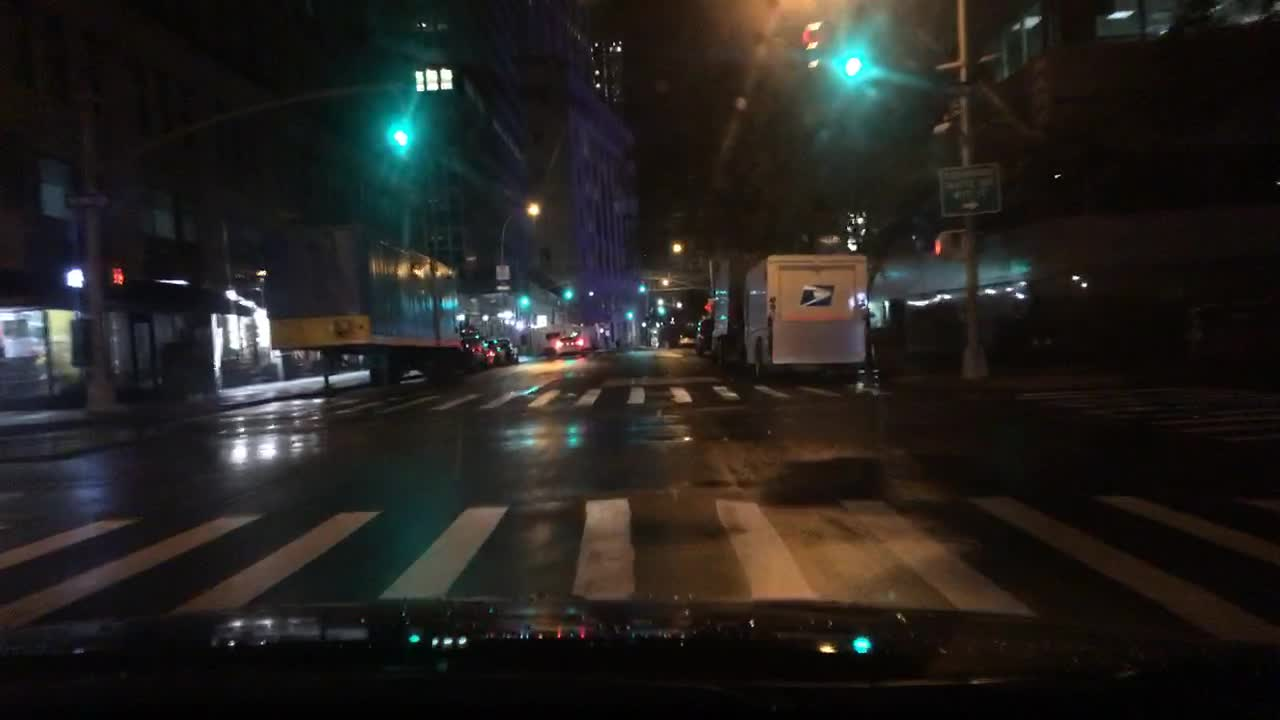car: (455, 320, 496, 369), (553, 326, 592, 359), (687, 312, 717, 353), (482, 334, 504, 364), (539, 328, 562, 356), (498, 336, 519, 361), (675, 329, 692, 346)
traffic light: (390, 89, 415, 155), (800, 22, 825, 81), (840, 22, 864, 83), (930, 226, 955, 256), (57, 266, 84, 290), (104, 261, 126, 283), (562, 280, 573, 304), (516, 288, 528, 309), (636, 277, 648, 293), (654, 299, 666, 315), (624, 305, 634, 319)
traffic sign: (936, 165, 997, 214), (64, 187, 113, 211), (935, 77, 973, 99), (494, 261, 509, 280), (492, 282, 509, 293)
truck: (266, 219, 464, 395), (741, 253, 869, 386), (702, 246, 766, 373)
